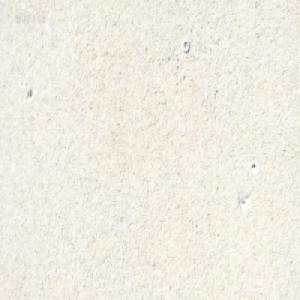Washer: (182, 38, 189, 52)
